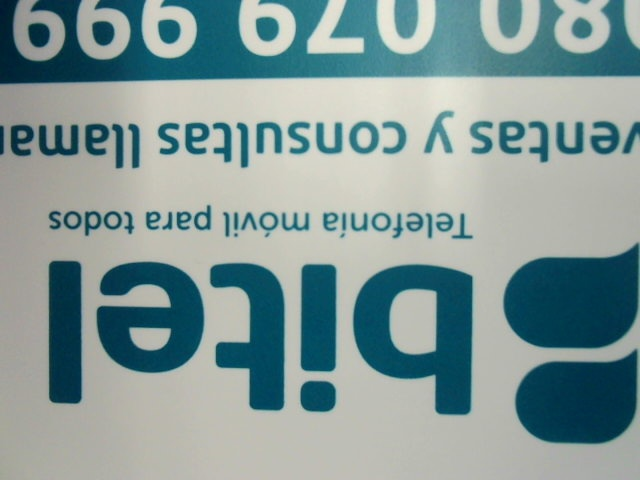BE_bitel: (28, 236, 635, 442)
